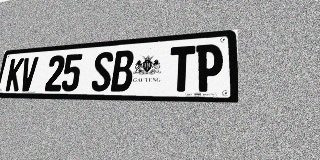2: (45, 55, 66, 91)
5: (61, 54, 83, 91)
B: (110, 50, 135, 91)
K: (5, 58, 24, 91)
P: (195, 43, 223, 92)
S: (91, 51, 114, 91)
T: (169, 45, 195, 92)
V: (19, 57, 39, 91)
